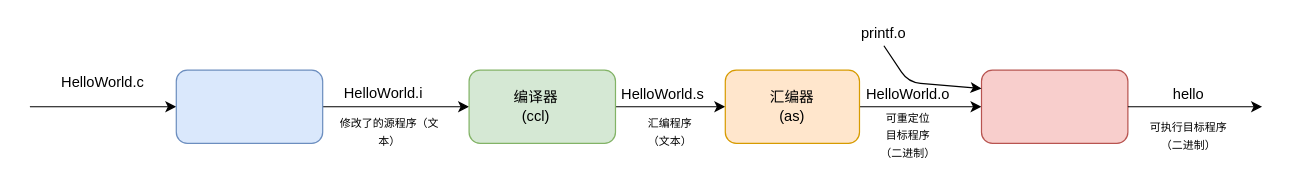
Some shapes in this 1293 by 182 pixel diagram are drawn without their labels. Here are the shapes that lost their labels. From the top down, the box of each, then its label:
(175, 69, 323, 143): 预编译处理器 (cpp)
(980, 69, 1128, 143): 链接器 (Id)
